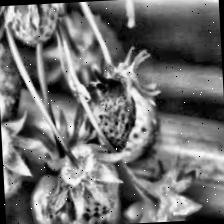Gray Mold: (83, 44, 164, 154)
